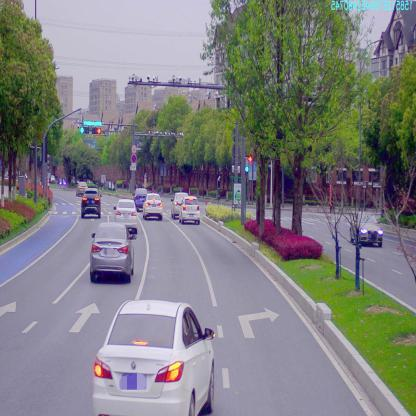traffic-light: (82, 119, 103, 125), (92, 128, 102, 134), (81, 127, 88, 134)
